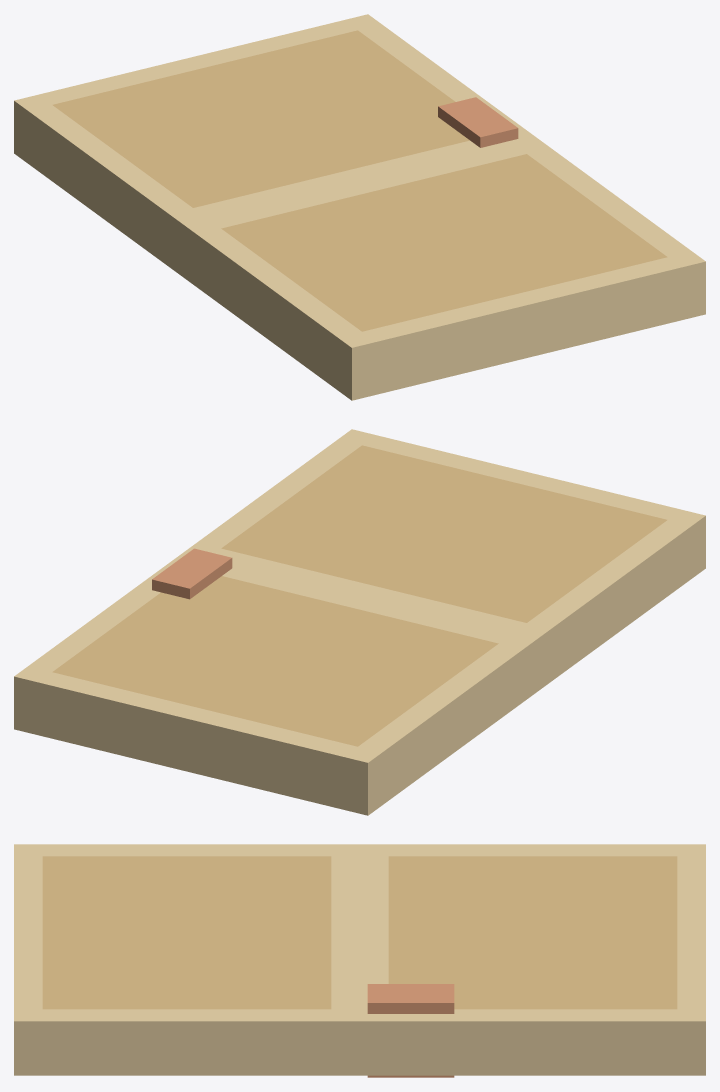
Rendered from 077_prop_door.gltf.
3 renders of one model, top to bottom at view 1: azimuth 30°, elevation 25°; view 2: azimuth 150°, elevation 25°; view 3: azimuth 270°, elevation 25°, orthographic. The views are drawn at different scales.
Parts seen in each view (by area): view 1: prop_door; view 2: prop_door; view 3: prop_door.
Boxes of the visible parts, bbox=[...] form: prop_door: bbox=[14, 14, 705, 400]; prop_door: bbox=[14, 429, 705, 815]; prop_door: bbox=[14, 844, 705, 1077].
Bounding box in the file's own units: 3.36 × 0.6611 × 5.55.
1 material, 1 textured.
